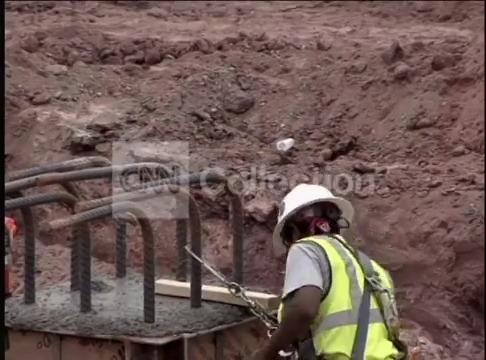Helmet: (273, 181, 344, 238)
Person: (255, 166, 426, 360)
Safety Vest: (317, 245, 404, 360)
